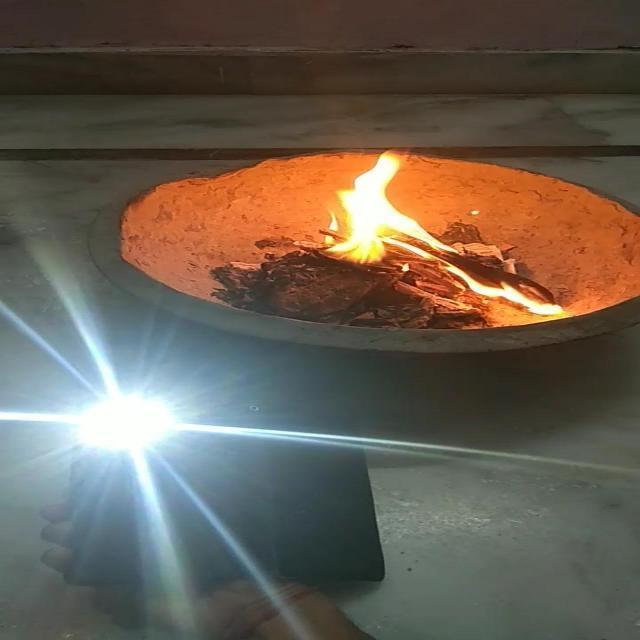fire: (276, 150, 588, 323)
smoke: (32, 347, 225, 500)
